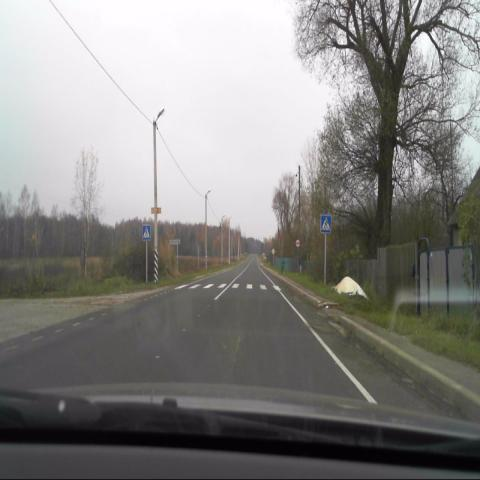5_19_1: (320, 213, 331, 233), (142, 224, 150, 241)
